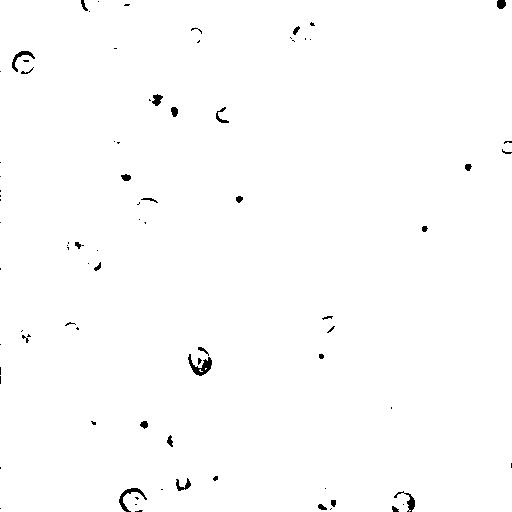micro-algae: (104, 90, 186, 173), (360, 118, 420, 178), (49, 362, 105, 419), (58, 212, 116, 266), (273, 12, 330, 64), (260, 444, 312, 497), (457, 463, 511, 512), (172, 432, 222, 479), (432, 0, 483, 40), (155, 87, 195, 130), (193, 321, 229, 361), (303, 337, 340, 372), (131, 194, 166, 230), (74, 247, 112, 280), (307, 486, 350, 512), (104, 318, 134, 354), (108, 160, 143, 190), (373, 434, 405, 466), (94, 43, 127, 74), (452, 152, 484, 183), (81, 399, 110, 433), (205, 464, 235, 496), (380, 397, 415, 424), (105, 119, 136, 148), (188, 345, 215, 377), (131, 413, 160, 440), (147, 432, 174, 461), (304, 5, 330, 35), (118, 486, 148, 512), (14, 325, 40, 354), (11, 48, 37, 76), (410, 216, 438, 242), (312, 312, 340, 338), (288, 20, 313, 45), (260, 94, 284, 119), (65, 232, 90, 256), (154, 474, 178, 499), (389, 490, 417, 511), (59, 320, 81, 342), (182, 25, 205, 46), (172, 473, 193, 496), (214, 104, 236, 125), (487, 0, 512, 18), (166, 430, 186, 450), (446, 78, 462, 96), (80, 0, 102, 13), (231, 194, 248, 206), (501, 140, 512, 155), (37, 0, 56, 8), (114, 0, 134, 7), (0, 367, 6, 384)
